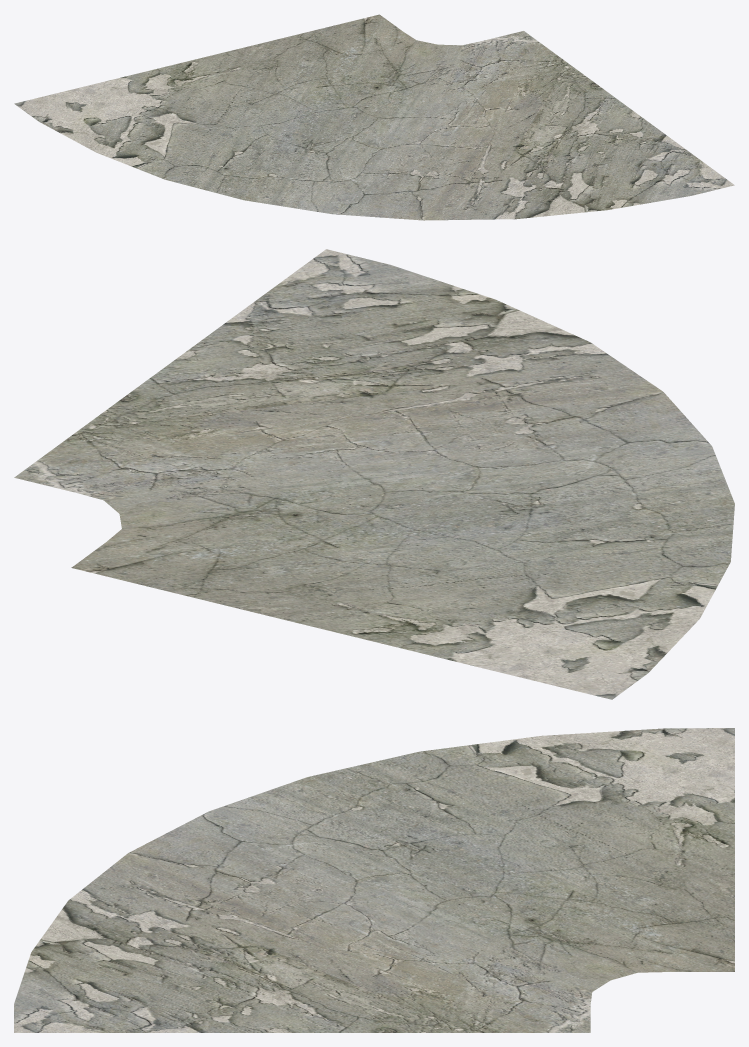
File: urban_damaged_curved_ceiling.dae
3 renders of one model, top to bottom at view 1: azimuth 30°, elevation 25°; view 2: azimuth 150°, elevation 25°; view 3: azimuth 270°, elevation 25°, orthographic. The views are drawn at different scales.
Visible parts, largest first — view 1: polySurface712; view 2: polySurface712; view 3: polySurface712.
Boxes of the visible parts, x1,y1,x2,y2 form: polySurface712: [14, 14, 734, 220]; polySurface712: [14, 249, 734, 699]; polySurface712: [14, 728, 734, 1032].
Size of the model in its own units: 3.75 by 0 by 3.75.
